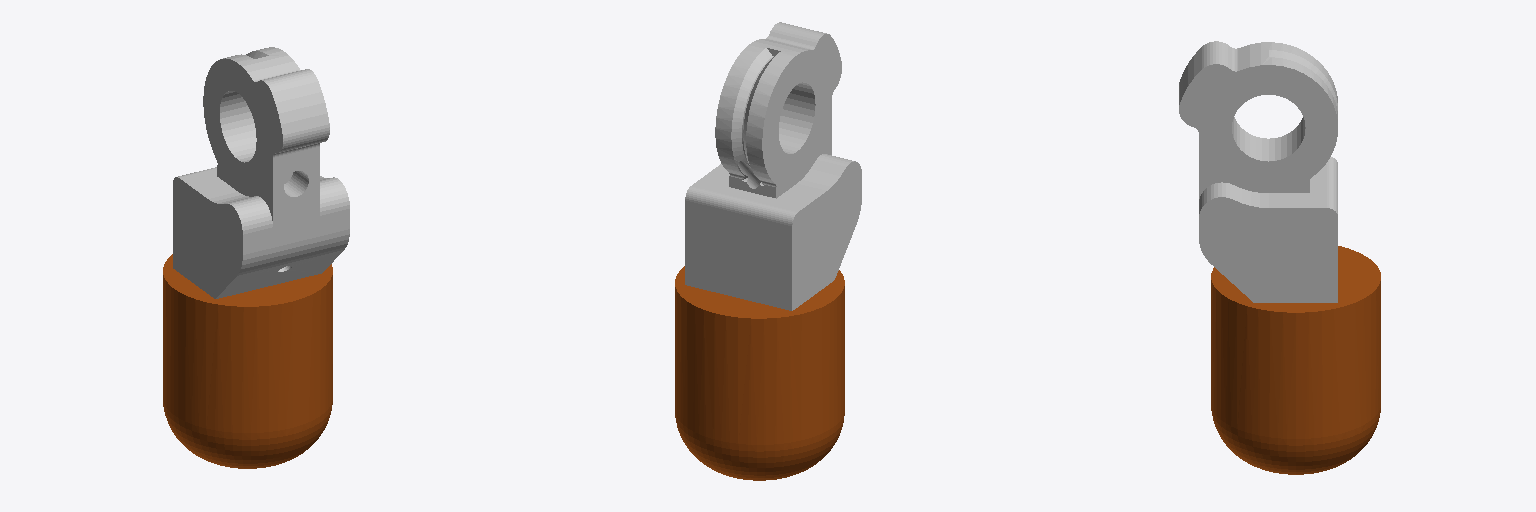
The picture shows the model from 3 angles: view 1: azimuth 30°, elevation 25°; view 2: azimuth 150°, elevation 25°; view 3: azimuth 270°, elevation 25°; orthographic projection.
Visible parts, largest first — view 1: finger_pp_t_B_StanfordFingertips_with_urethane_fat.001; view 2: finger_pp_t_B_StanfordFingertips_with_urethane_fat.001; view 3: finger_pp_t_B_StanfordFingertips_with_urethane_fat.001.
Part boxes in pixels (left/top/right/bottom): finger_pp_t_B_StanfordFingertips_with_urethane_fat.001: left=163, top=47, right=349, bottom=468; finger_pp_t_B_StanfordFingertips_with_urethane_fat.001: left=675, top=22, right=861, bottom=480; finger_pp_t_B_StanfordFingertips_with_urethane_fat.001: left=1179, top=41, right=1380, bottom=474.
Size of the model in its own units: 0.0433 by 0.114 by 0.0515.
Materials: 1 (1 with a texture image).